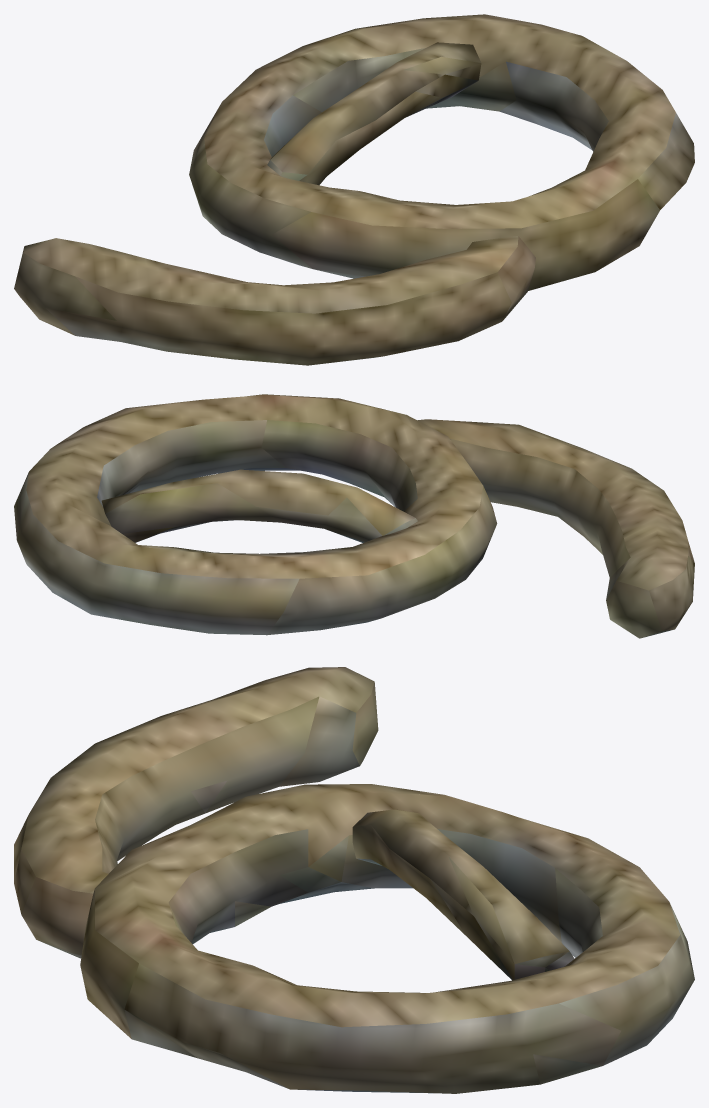
The model's file is av_corda.glb.
3 views of the same model, one above another, from view 1: azimuth 30°, elevation 25°; view 2: azimuth 150°, elevation 25°; view 3: azimuth 270°, elevation 25° (orthographic). The views are drawn at different scales.
Parts seen in each view (by area): view 1: Mesh_0.008; view 2: Mesh_0.008; view 3: Mesh_0.008.
Boxes of the visible parts, x1,y1,x2,y2 form: Mesh_0.008: (14,14,694,365); Mesh_0.008: (14,394,694,638); Mesh_0.008: (14,667,694,1093).
Bounding box in the file's own units: 0.1213 × 0.0215 × 0.0903.
Materials: 1 (1 with a texture image).
